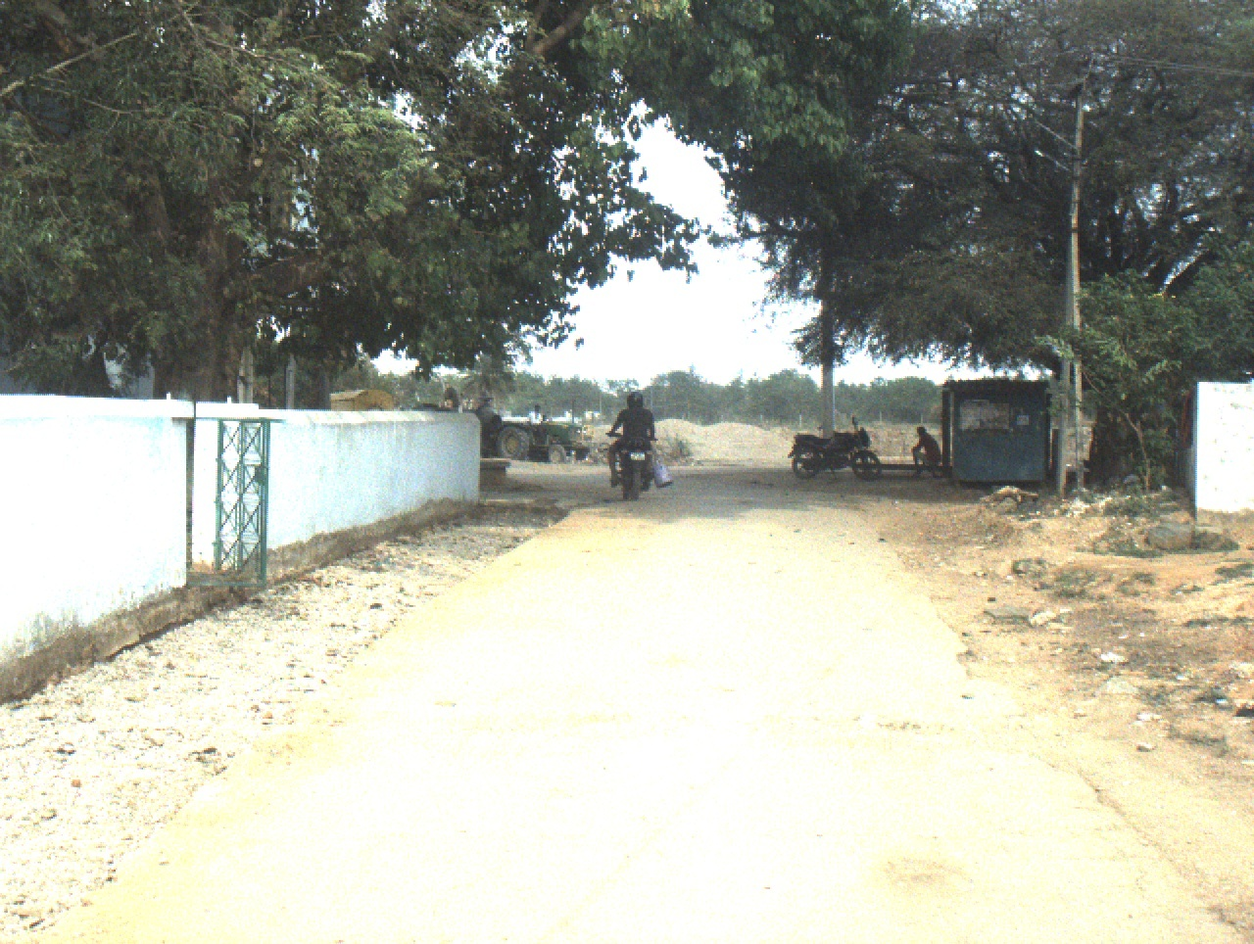motorcycle: (785, 417, 884, 488), (603, 424, 672, 503)
person: (902, 425, 941, 475)
rider: (602, 390, 661, 494), (530, 404, 545, 449)
vehicle fallback: (409, 384, 497, 466), (497, 399, 598, 458), (327, 388, 396, 413)
